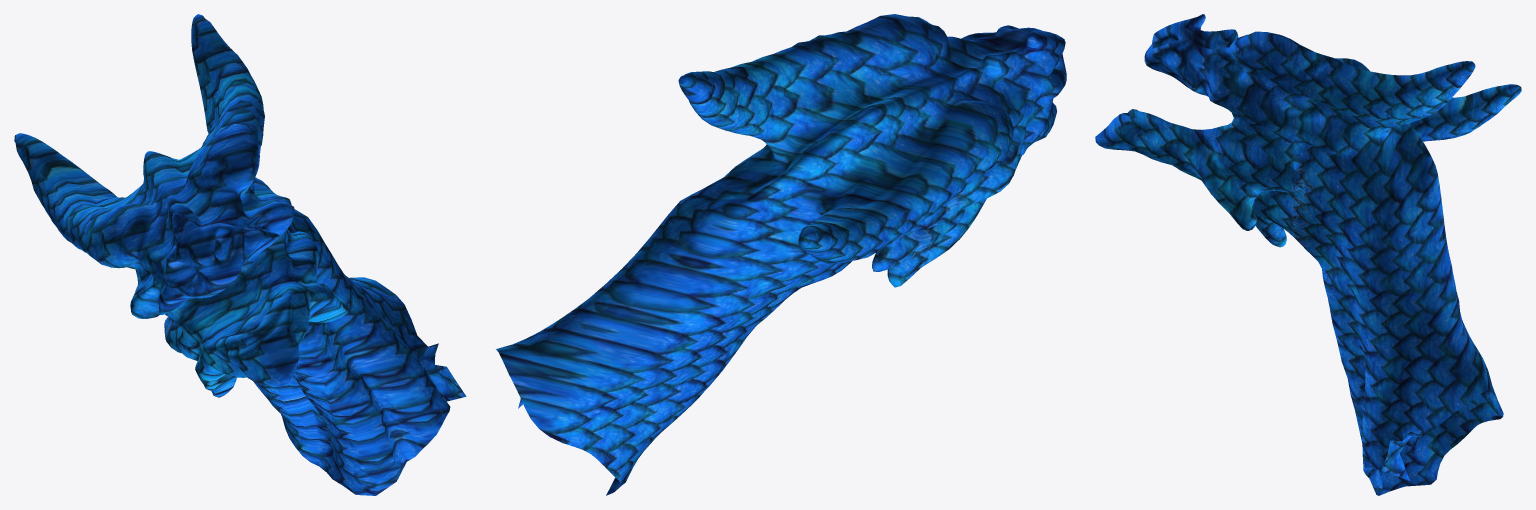
The model's file is Ca_IzA.obj.
3 renders of one model, left to right at view 1: azimuth 30°, elevation 25°; view 2: azimuth 150°, elevation 25°; view 3: azimuth 270°, elevation 25°, orthographic. The views are drawn at different scales.
Visible parts, largest first — view 1: CabezaIzA; view 2: CabezaIzA; view 3: CabezaIzA.
Part boxes in pixels (x1,y1,x2,y2): CabezaIzA: (14,14,466,495); CabezaIzA: (496,14,1066,495); CabezaIzA: (1095,14,1521,495).
Bounding box in the file's own units: 2.09 × 2.2 × 2.2.
Materials: 1 (1 with a texture image).
